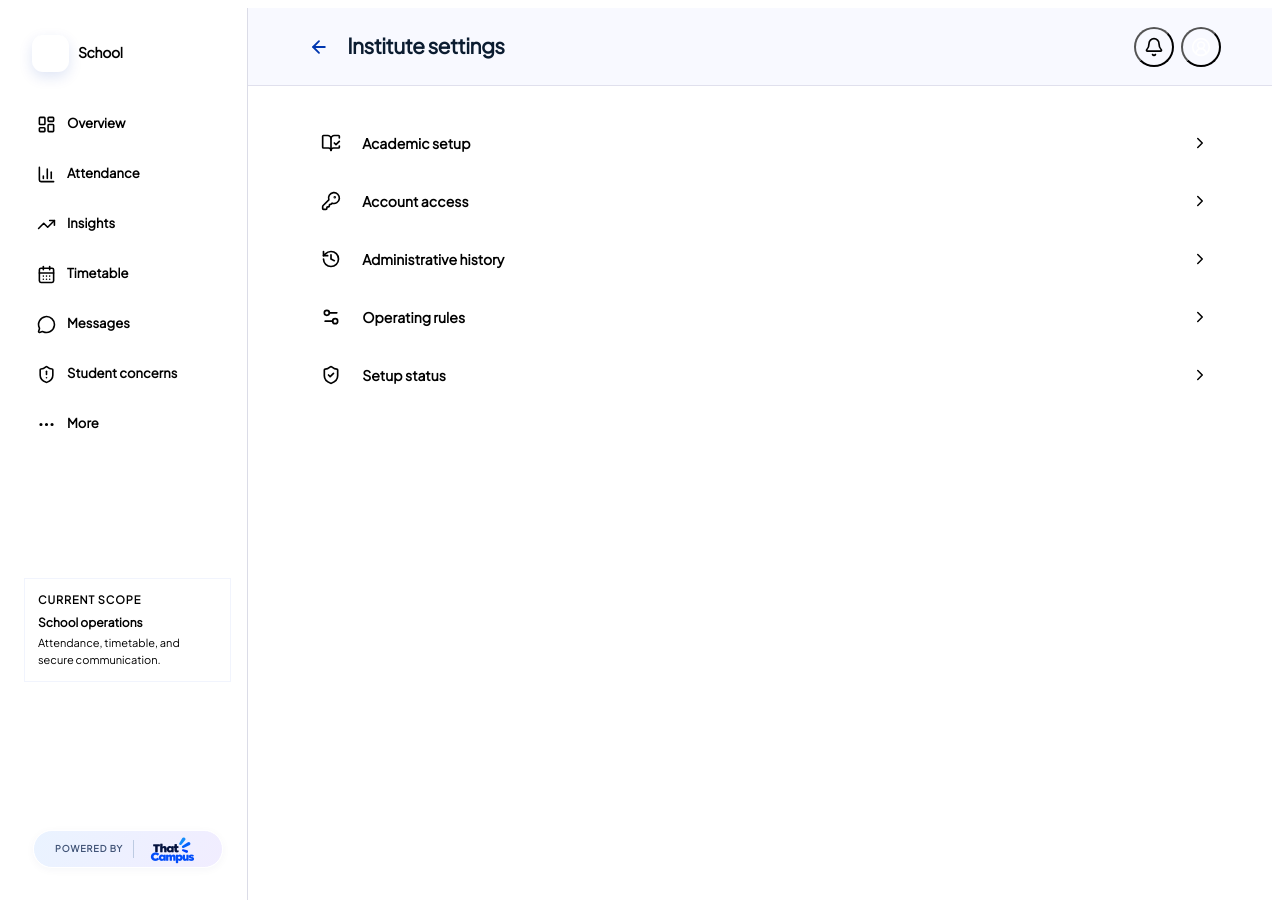
Test case: Institute settings hierarchy › opens a focused subpage and returns to settings
Click the link "Account access".
click(415, 201)  # box [321,191,1209,211]
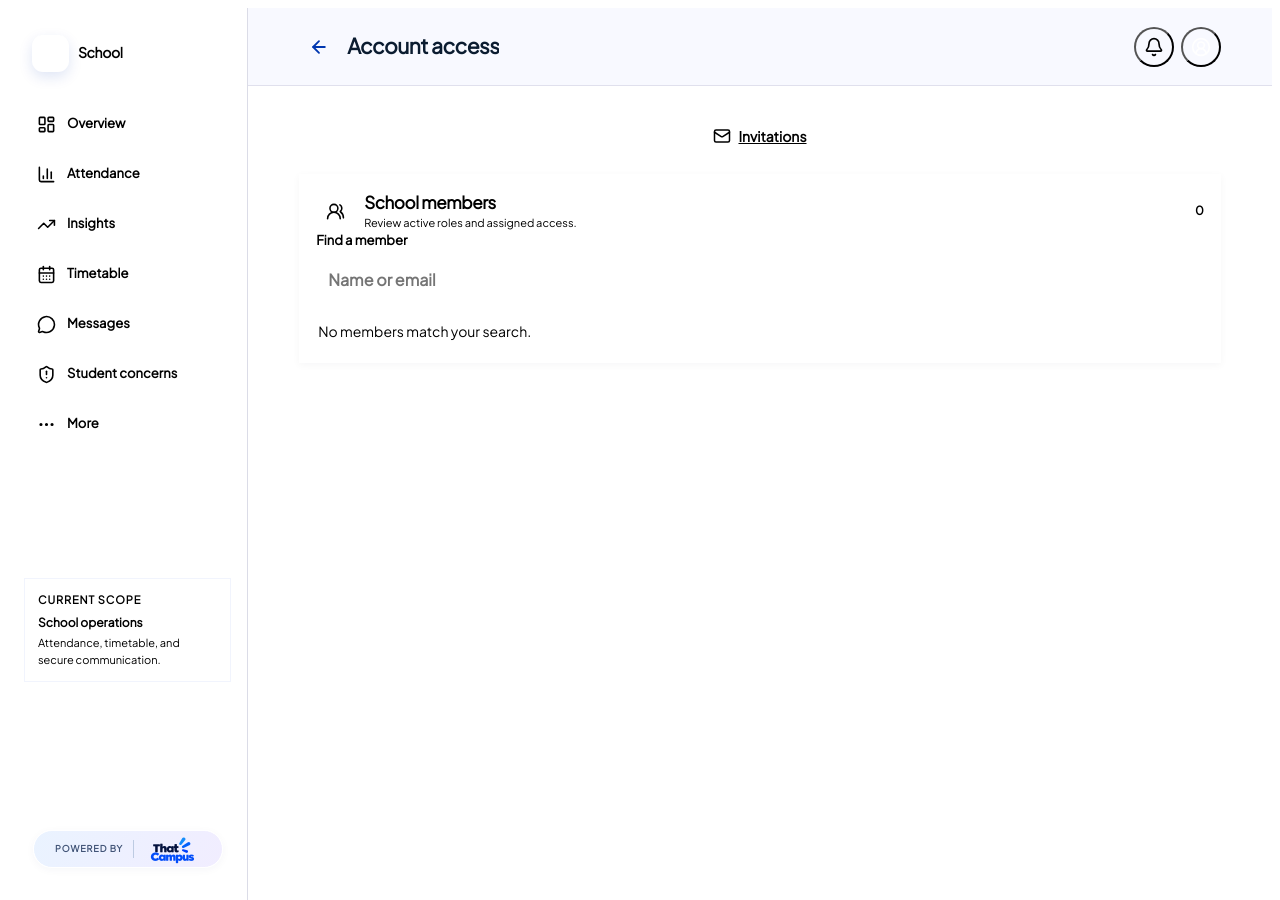
Expected: the heading "Account access" is shown, [347,33,499,60]
Click the button named "Go back".
click(319, 46)  # box [299,26,339,66]
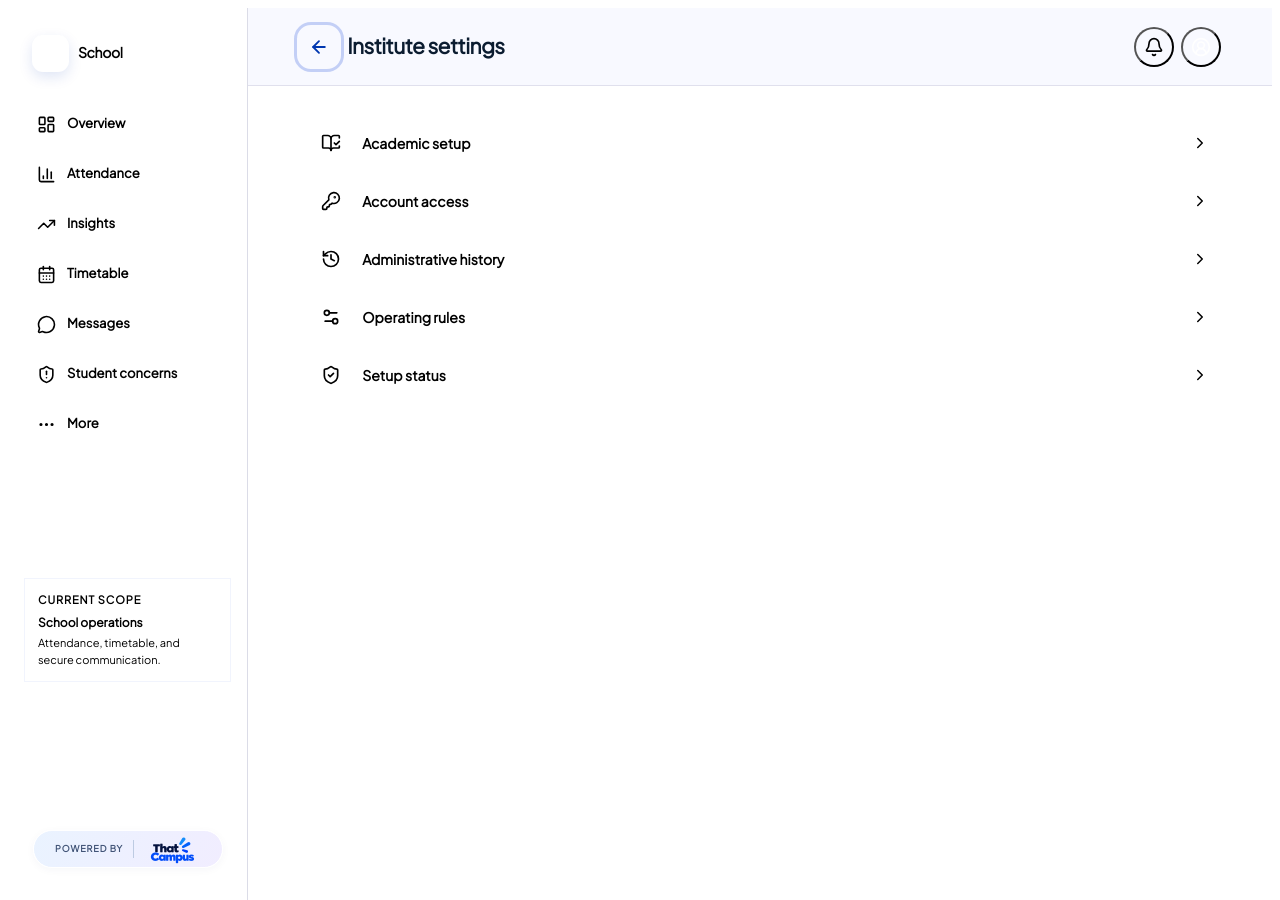
Expected: the link "Academic setup" is shown, [321,133,1209,153]
